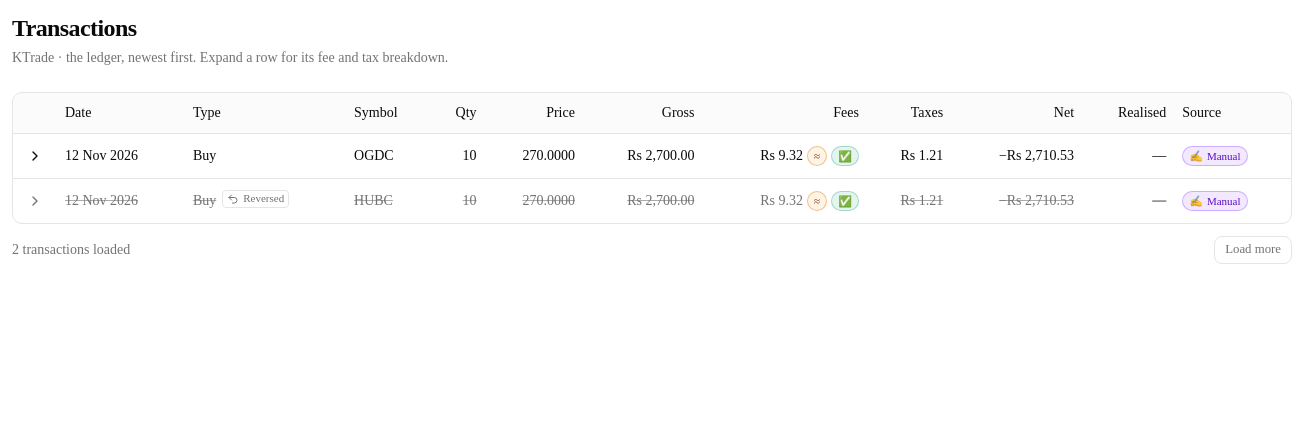
Test case: Transactions page › pages by cursor (load more), marks reversals and shows per-line fee provenance
Expected: the text "HUBC" is shown, [346, 178, 432, 222]
Click the button named "Show fee breakdown for BUY OGDC".
click(35, 156)  # box [21, 142, 49, 170]
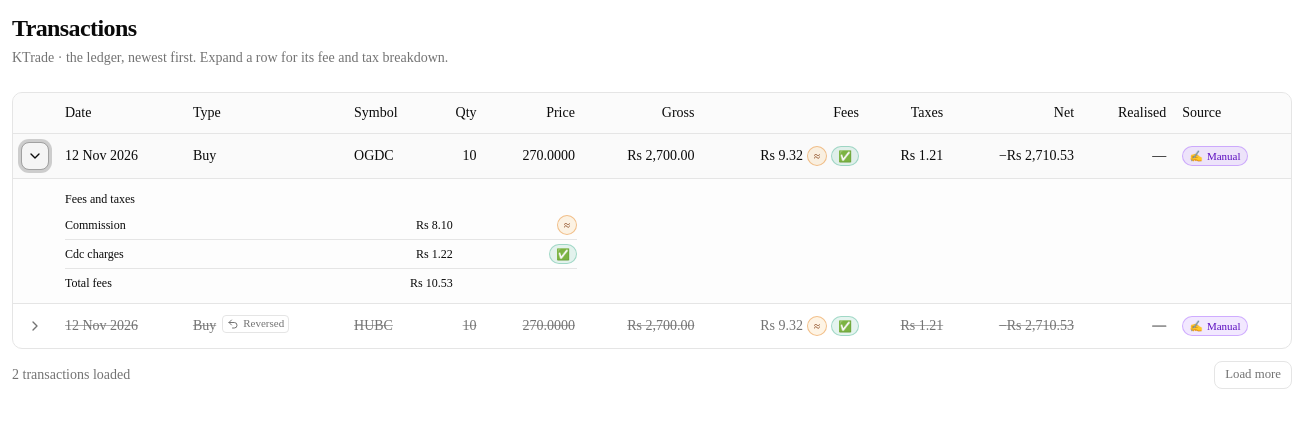
Expected: the button "≈" in the row of "Commission" is shown, [557, 214, 577, 234]
Expected: the button "✅" in the row of "Cdc charges" is shown, [549, 244, 577, 264]
Expected: the text "Rs 10.53" is shown, [304, 268, 453, 290]
Click the button "Load more".
click(1253, 374)  # box [1214, 360, 1292, 388]
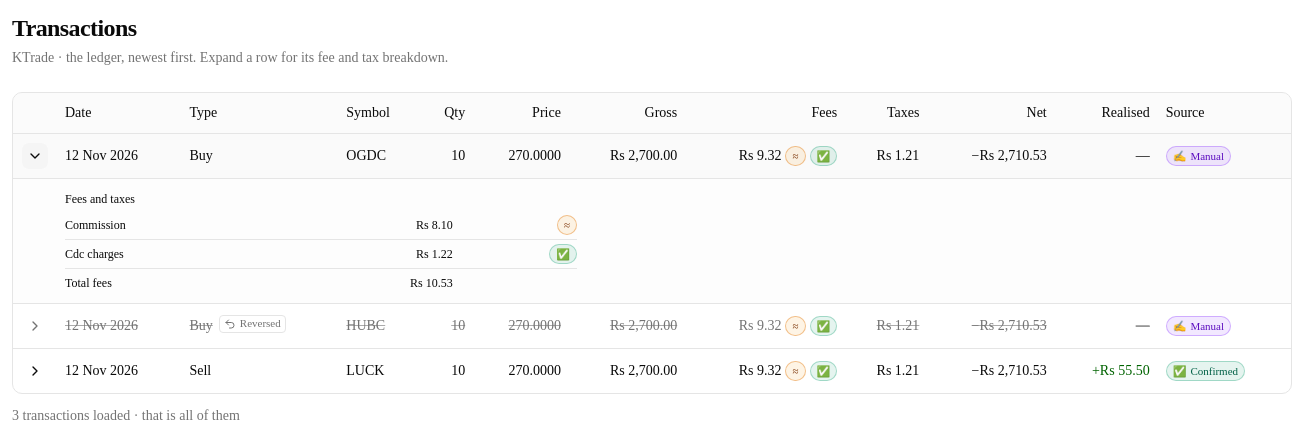
Expected: the text "LUCK" is shown, [338, 348, 422, 392]
Expected: the button "Load more" is gone
Expected: the text "3 transactions loaded · that is all of them" is shown, [12, 406, 240, 426]
